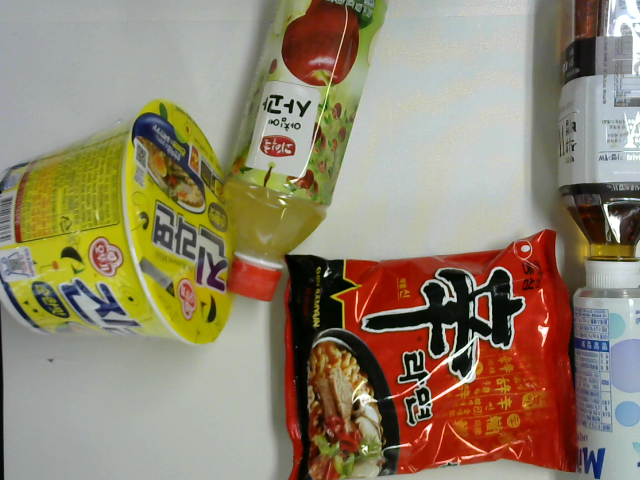Jinlamyeon_Mild_Taste_Large_Cup: (1, 101, 243, 350)
Milkies_250ml: (574, 287, 640, 480)
Morning_Apple_500ml: (215, 1, 392, 306)
Post-meal_recipe_W_tea_500ml: (558, 1, 640, 289)
Sinramen: (281, 226, 583, 480)
